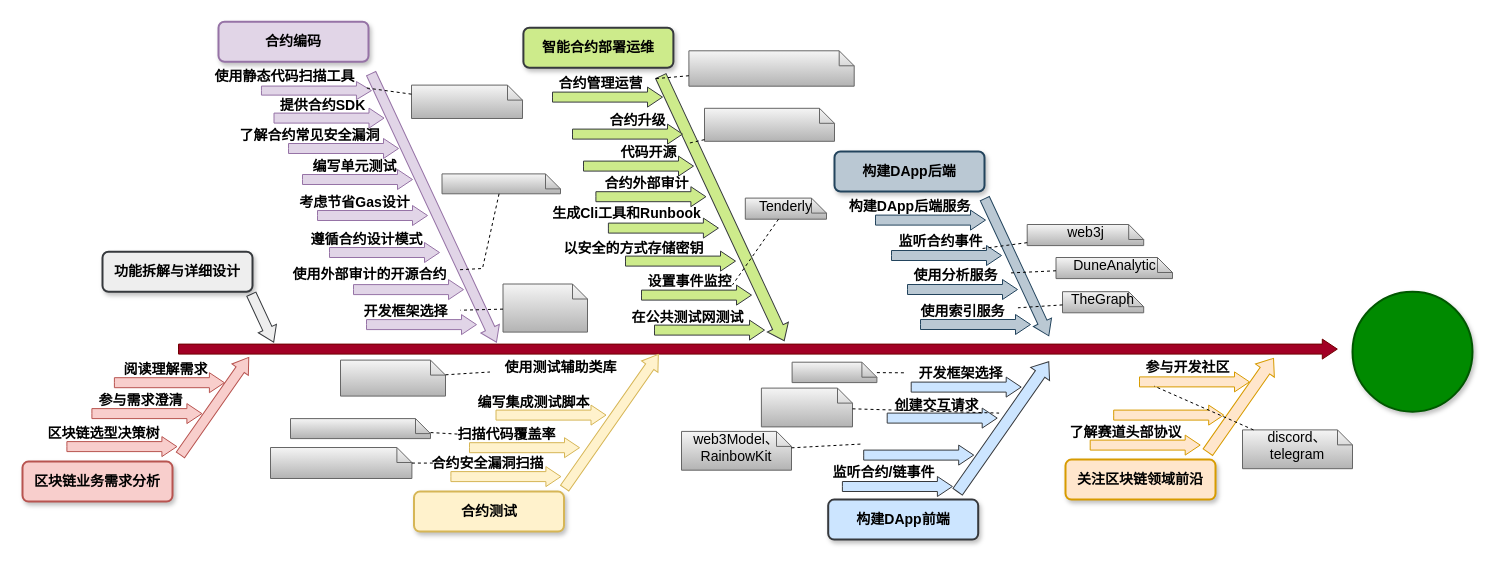
This 1496x565 diagram has some shape labels left out. The centre of each missing label's shape, as x and y in pixels:
"Gnosis Safe、OpenZeppelin Defender" belongs at point 771,68.
"Hardhat Truffle Brownie" belongs at point 545,307.
"Next.js" belongs at point 834,372.
"OpenZeppelin" belongs at point 500,183.
"Slither、Manticore、Echidna" belongs at point 341,462.
"Solhint、Prettier、Husky" belongs at point 466,101.
"solidity-coverage" belongs at point 360,428.
"TRANSPARENT、UUPS、Beacon" belongs at point 769,124.
"waffle、mocha、chai" belongs at point 393,377.
"wagmi.js、ethers.js" belongs at point 806,407.
"智能合约开发最佳实践流程" belongs at point 1413,352.
"订阅新闻通讯" belongs at point 1168,414.
"连接钱包插件" belongs at point 918,454.
